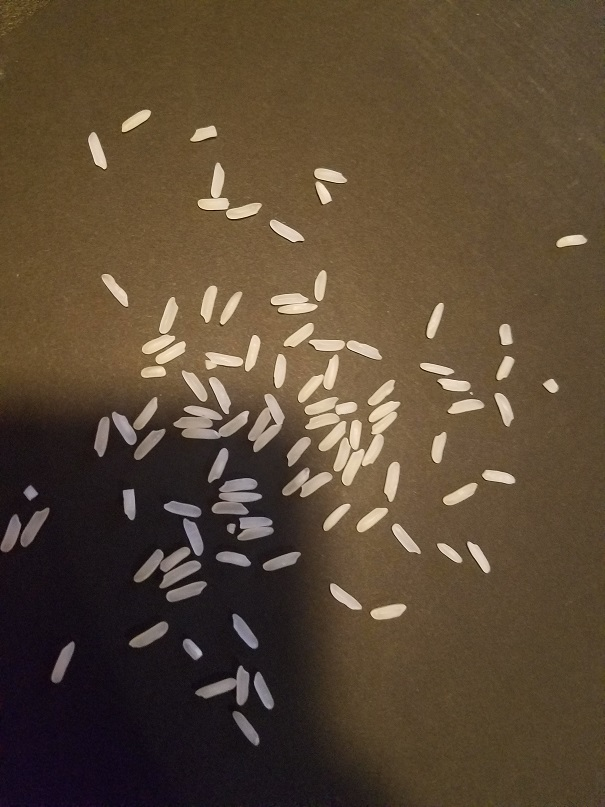egg: (126, 620, 169, 650), (20, 506, 49, 549), (227, 612, 260, 649), (49, 640, 76, 684), (193, 676, 238, 702), (230, 710, 261, 746), (100, 272, 130, 309), (328, 581, 365, 611), (132, 428, 166, 460), (132, 548, 163, 583), (389, 522, 421, 555), (316, 419, 347, 453), (179, 368, 208, 404), (340, 448, 366, 487), (132, 395, 159, 431), (268, 217, 305, 243), (218, 408, 250, 438), (282, 320, 315, 349), (110, 411, 138, 445), (441, 480, 479, 505), (181, 517, 205, 556), (251, 671, 275, 710), (355, 505, 388, 533), (118, 107, 153, 133), (298, 471, 333, 497), (321, 502, 351, 532), (467, 541, 492, 577), (280, 467, 311, 496), (345, 338, 382, 362), (260, 551, 302, 572), (219, 290, 244, 325), (208, 376, 231, 414), (284, 435, 312, 466), (1, 513, 22, 554), (247, 407, 272, 441), (296, 373, 325, 402), (366, 379, 396, 407), (367, 399, 402, 423), (382, 460, 402, 502), (158, 296, 180, 334), (158, 546, 190, 572), (141, 332, 177, 355), (492, 391, 515, 427), (252, 424, 282, 451), (368, 410, 399, 436), (86, 131, 107, 169), (360, 433, 384, 466), (163, 498, 202, 518), (242, 334, 263, 371), (92, 415, 110, 458), (154, 340, 186, 364), (199, 284, 218, 324), (207, 447, 228, 483), (332, 436, 352, 473), (203, 350, 244, 368), (263, 392, 285, 425), (224, 201, 262, 220), (322, 352, 341, 390), (425, 302, 444, 340), (234, 663, 250, 707), (303, 396, 340, 415), (370, 602, 407, 621), (446, 397, 485, 415), (183, 404, 223, 421), (217, 476, 257, 493), (304, 412, 341, 430), (215, 549, 251, 567), (312, 166, 349, 183), (189, 123, 218, 144), (429, 431, 447, 464), (418, 360, 455, 376), (276, 301, 318, 315), (120, 488, 137, 522), (181, 636, 203, 662), (211, 501, 249, 516), (270, 292, 310, 306), (495, 355, 517, 380), (172, 415, 214, 428), (437, 542, 463, 563), (313, 269, 329, 303), (437, 377, 471, 393), (482, 469, 516, 485), (210, 160, 224, 198), (235, 526, 273, 540), (554, 233, 589, 248), (307, 338, 346, 351), (217, 491, 263, 502), (314, 180, 334, 205), (180, 428, 221, 440), (273, 352, 286, 388), (238, 516, 274, 529), (349, 419, 364, 450), (196, 197, 231, 210), (139, 365, 166, 379), (498, 322, 513, 345), (20, 484, 39, 502), (540, 377, 560, 394), (333, 401, 357, 414), (203, 358, 218, 370), (226, 522, 235, 534)
